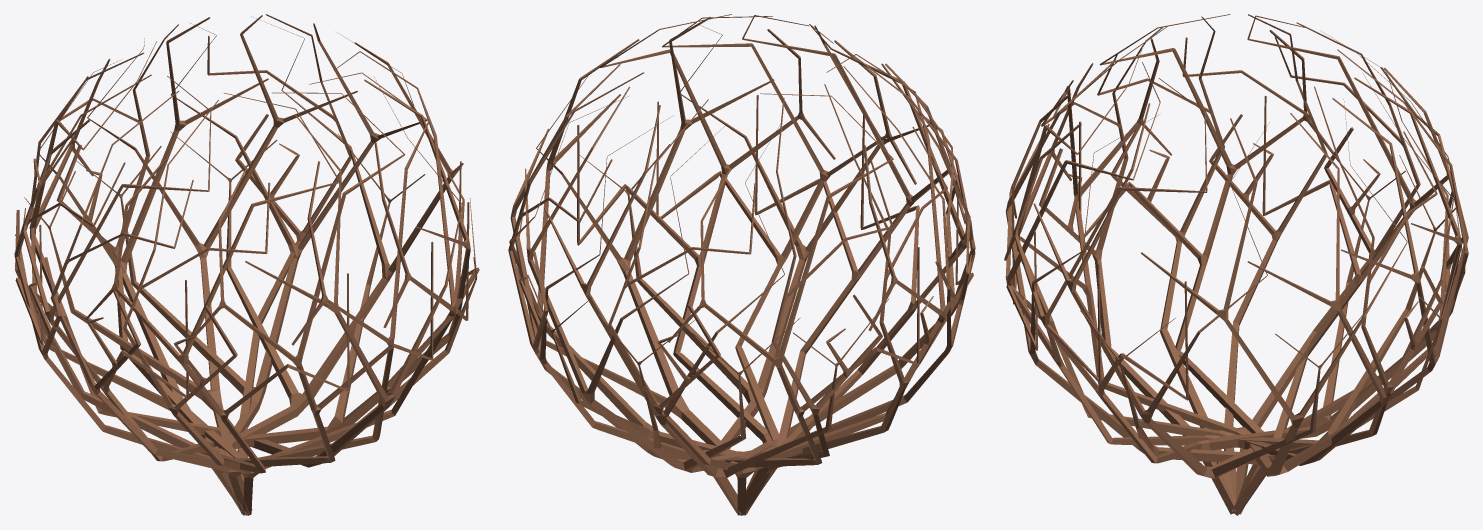
Rendered from planta_rodadora.fbx.
3 views of the same model, side by side, from view 1: azimuth 30°, elevation 25°; view 2: azimuth 150°, elevation 25°; view 3: azimuth 270°, elevation 25° (orthographic).
Parts seen in each view (by area): view 1: planta_rodadora; view 2: planta_rodadora; view 3: planta_rodadora.
Boxes of the visible parts, x1=… form: planta_rodadora: x1=14, y1=14, x2=479, y2=515; planta_rodadora: x1=508, y1=14, x2=975, y2=515; planta_rodadora: x1=1004, y1=14, x2=1468, y2=515.
Size of the model in its own units: 60.08 by 65.5 by 60.02.
